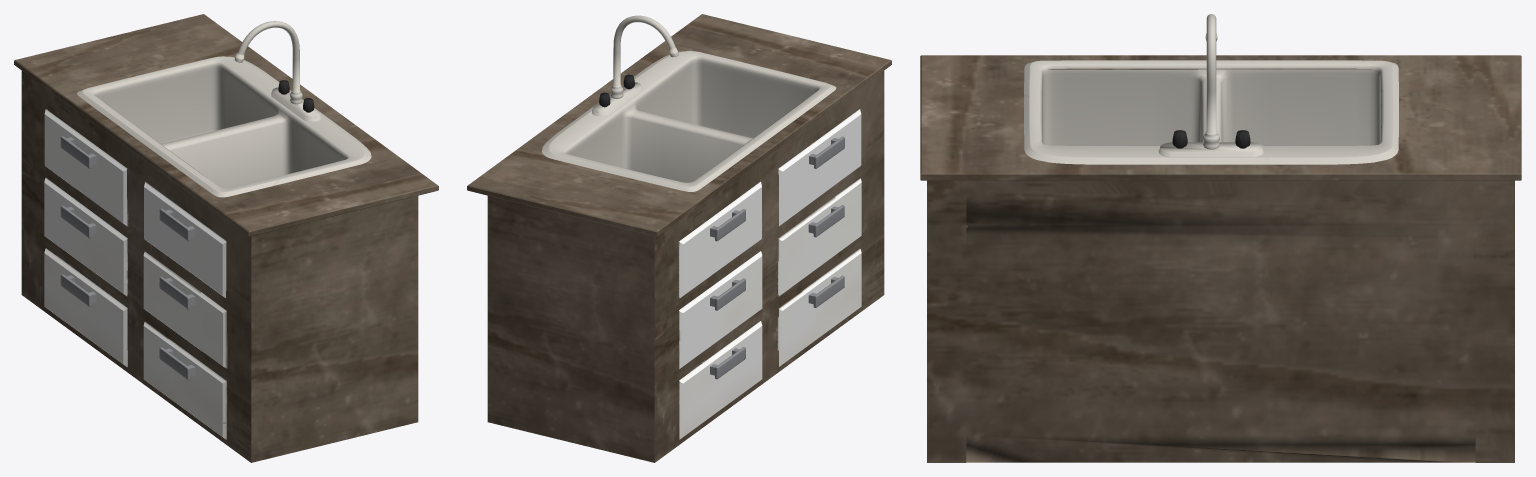
File: kit_island.glb
The picture shows the model from 3 angles, left to right: view 1: azimuth 30°, elevation 25°; view 2: azimuth 150°, elevation 25°; view 3: azimuth 270°, elevation 25°; orthographic projection. The views are drawn at different scales.
Parts seen in each view (by area): view 1: kitchen_island_3; view 2: kitchen_island_3; view 3: kitchen_island_3.
Part boxes in pixels (<box>): kitchen_island_3: <box>14,14,438,462</box>; kitchen_island_3: <box>467,14,891,462</box>; kitchen_island_3: <box>920,14,1521,462</box>.
Size of the model in its own units: 2.47 by 3.93 by 5.1.
Materials: 1 (1 with a texture image).
